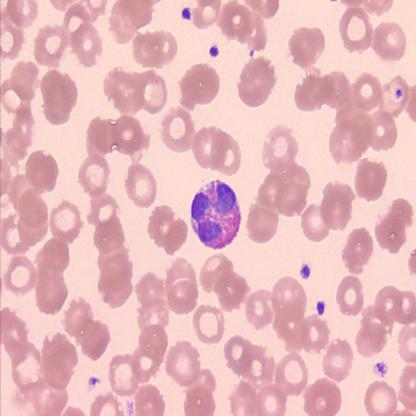Eosinophil: (188, 179, 241, 250)
